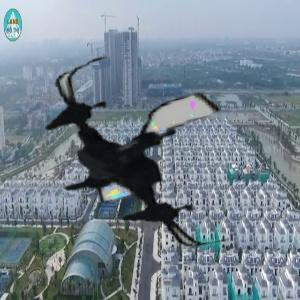drone: (31, 51, 242, 262)
